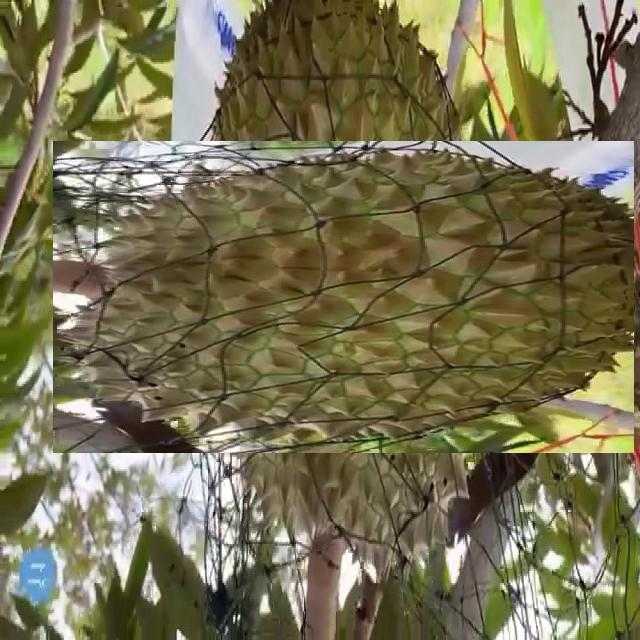durian: (120, 74, 568, 520)
